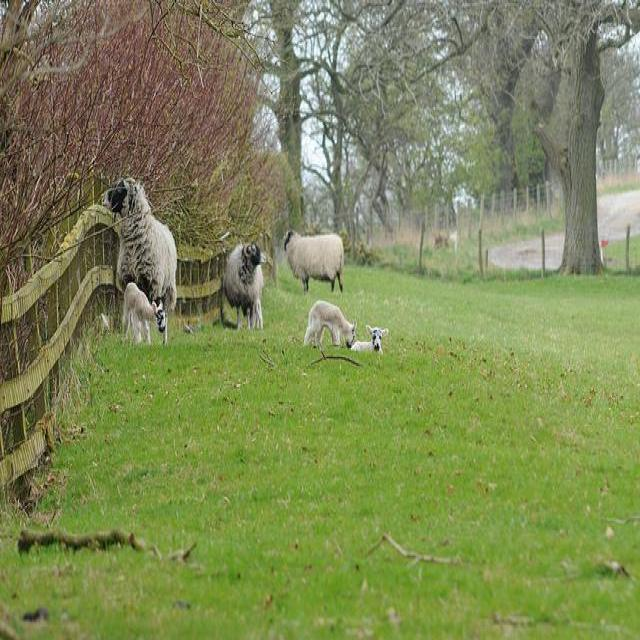Sheep: (104, 176, 177, 310), (282, 229, 345, 294), (222, 242, 267, 330), (122, 283, 167, 348)
